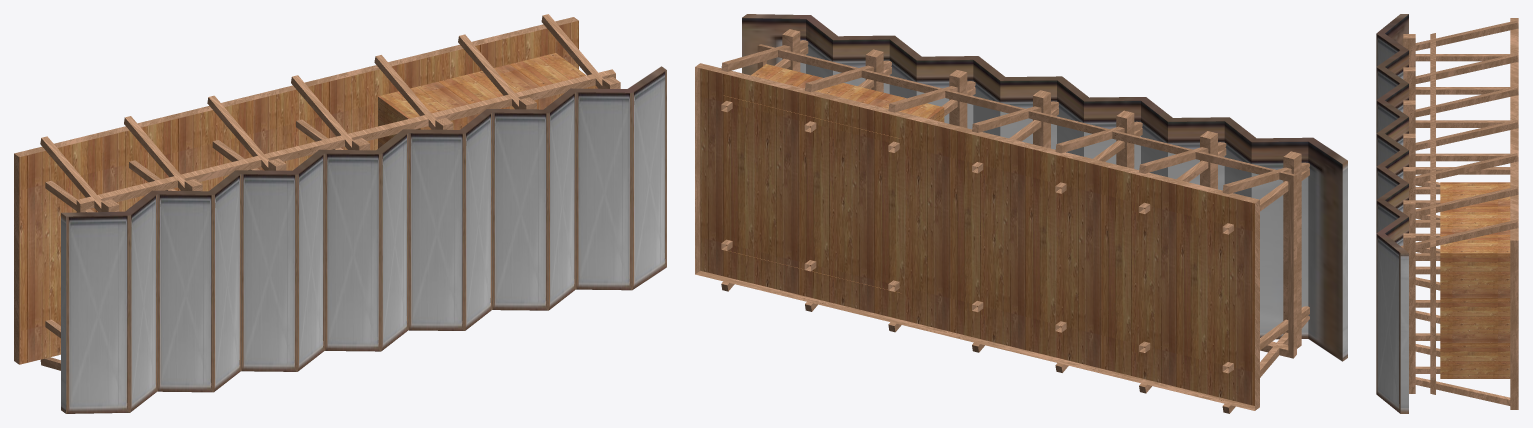
The model's file is YDH_05.gltf.
3 renders of one model, left to right at view 1: azimuth 30°, elevation 25°; view 2: azimuth 150°, elevation 25°; view 3: azimuth 270°, elevation 25°, orthographic. The views are drawn at different scales.
Size of the model in its own units: 62.09 by 22.47 by 15.63.
Materials: 3 (3 with a texture image).
